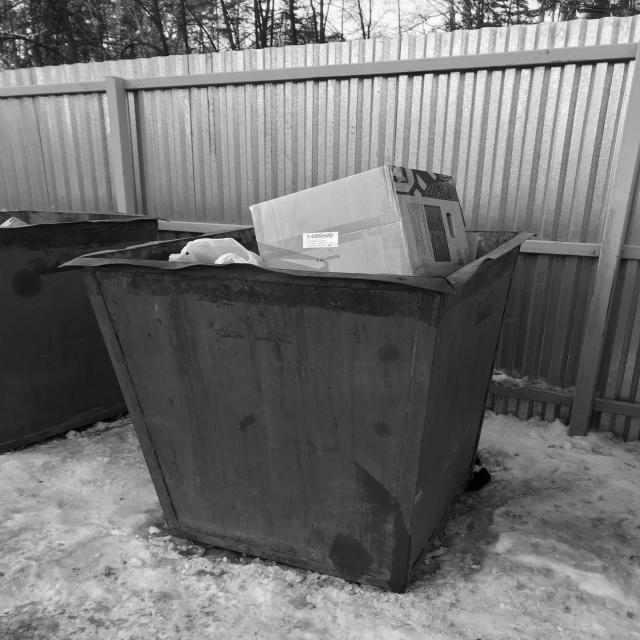bin: (59, 134, 540, 610)
plastic: (165, 164, 486, 274)
